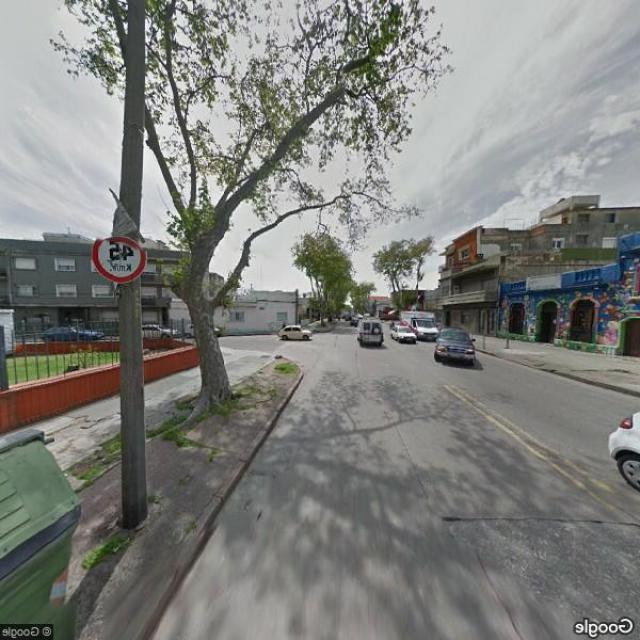garbage container: (1, 424, 92, 640)
